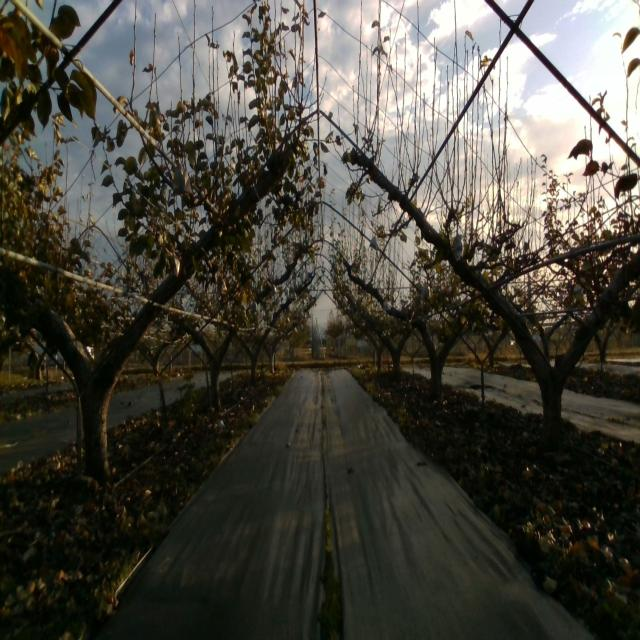pearbags: (170, 157, 192, 197), (452, 229, 463, 264)
